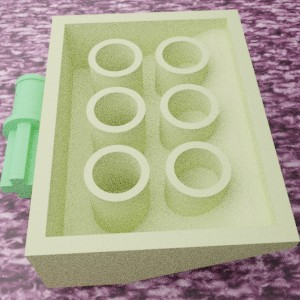lego: (24, 9, 299, 288), (0, 73, 54, 198)
